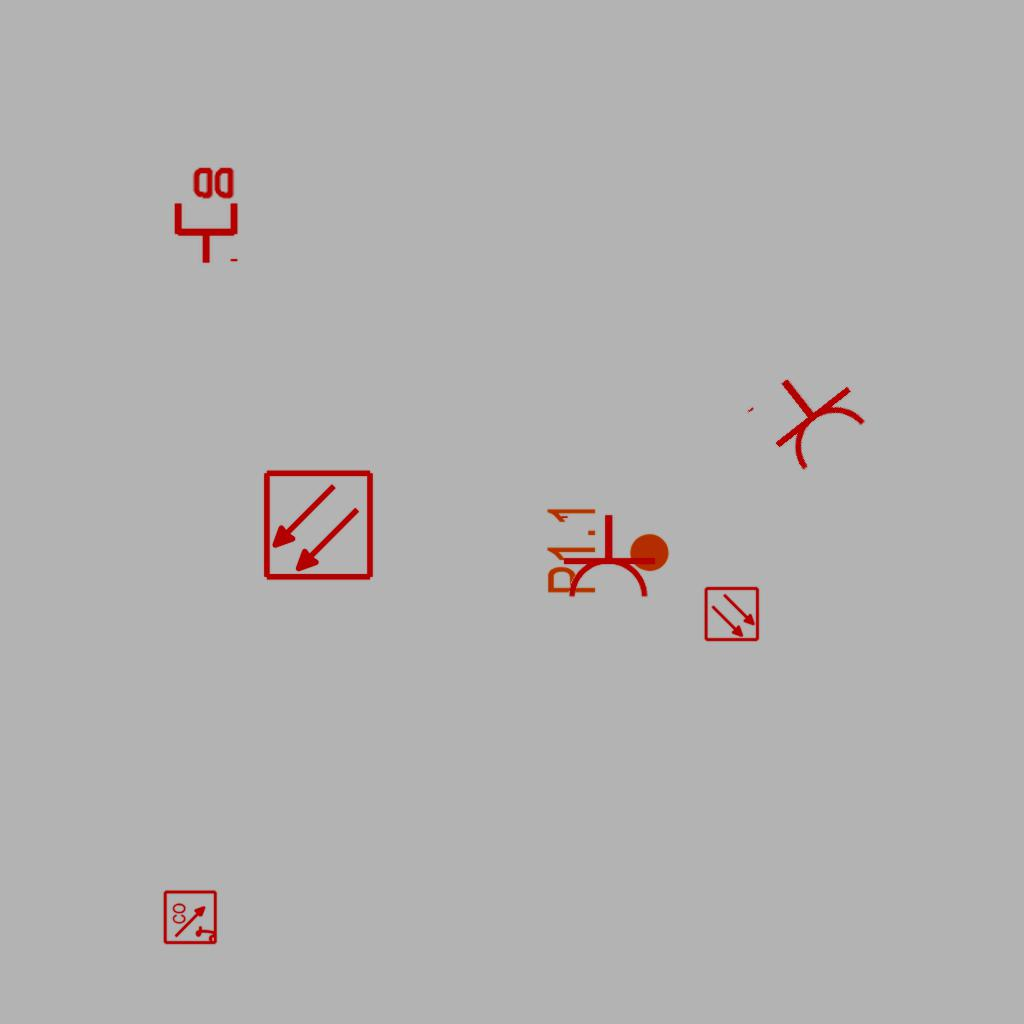Datenanschluss_zweifach: (170, 163, 239, 266)
Downlight_LED_Einbauleuchten_Flur: (544, 503, 672, 596)
RMO_Rauchmelder_optischer: (262, 469, 375, 582), (704, 586, 760, 642)
ROA_Rauchmelder_optisch_mit_Signalgeber_(Sockelsirene): (163, 889, 219, 945)
Schukosteckdose_einfach: (742, 349, 875, 481), (557, 513, 657, 600)
